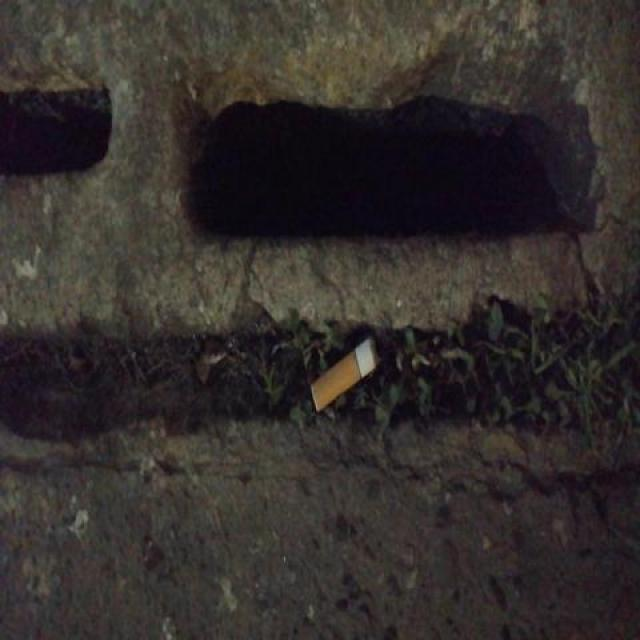non-organic waste: (306, 332, 386, 416)
